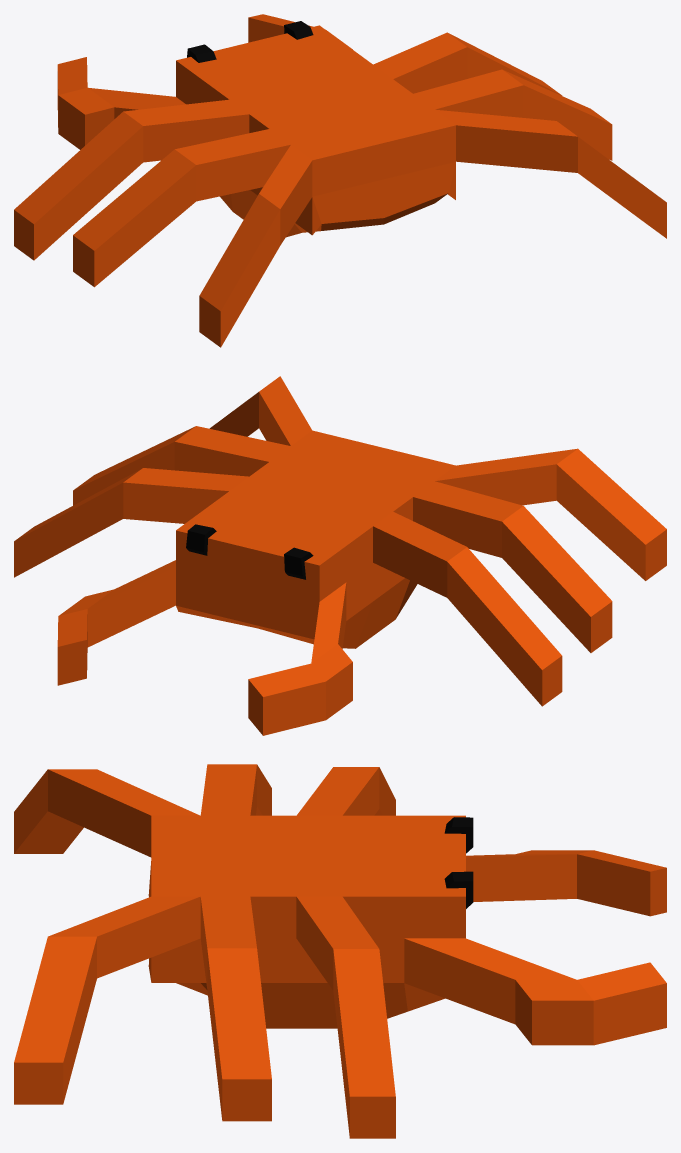
Rendered from crab.glb.
3 views of the same model, one above another, from view 1: azimuth 30°, elevation 25°; view 2: azimuth 150°, elevation 25°; view 3: azimuth 270°, elevation 25° (orthographic). The views are drawn at different scales.
Parts seen in each view (by area): view 1: Crab; view 2: Crab; view 3: Crab.
Part boxes in pixels (x1,y1,x2,y2): Crab: (14,14,666,347); Crab: (14,376,666,735); Crab: (14,764,666,1138).
Size of the model in its own units: 7.35 by 1.67 by 6.83.
